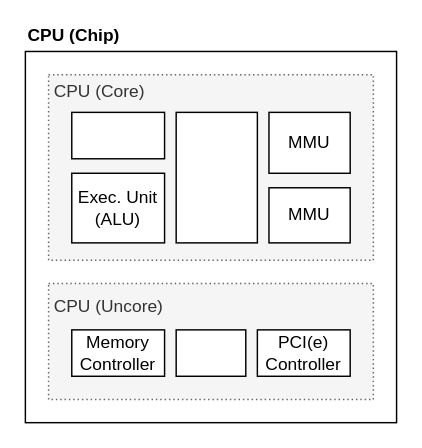
Some shapes in this 422 by 448 pixel diagram are drawn without their labels. The centre of each missing label's shape, as x and y in pixels:
"Control Unit" goes at (x=117, y=135).
"L3 Cache" goes at (x=210, y=352).
"Register File" goes at (x=216, y=177).
